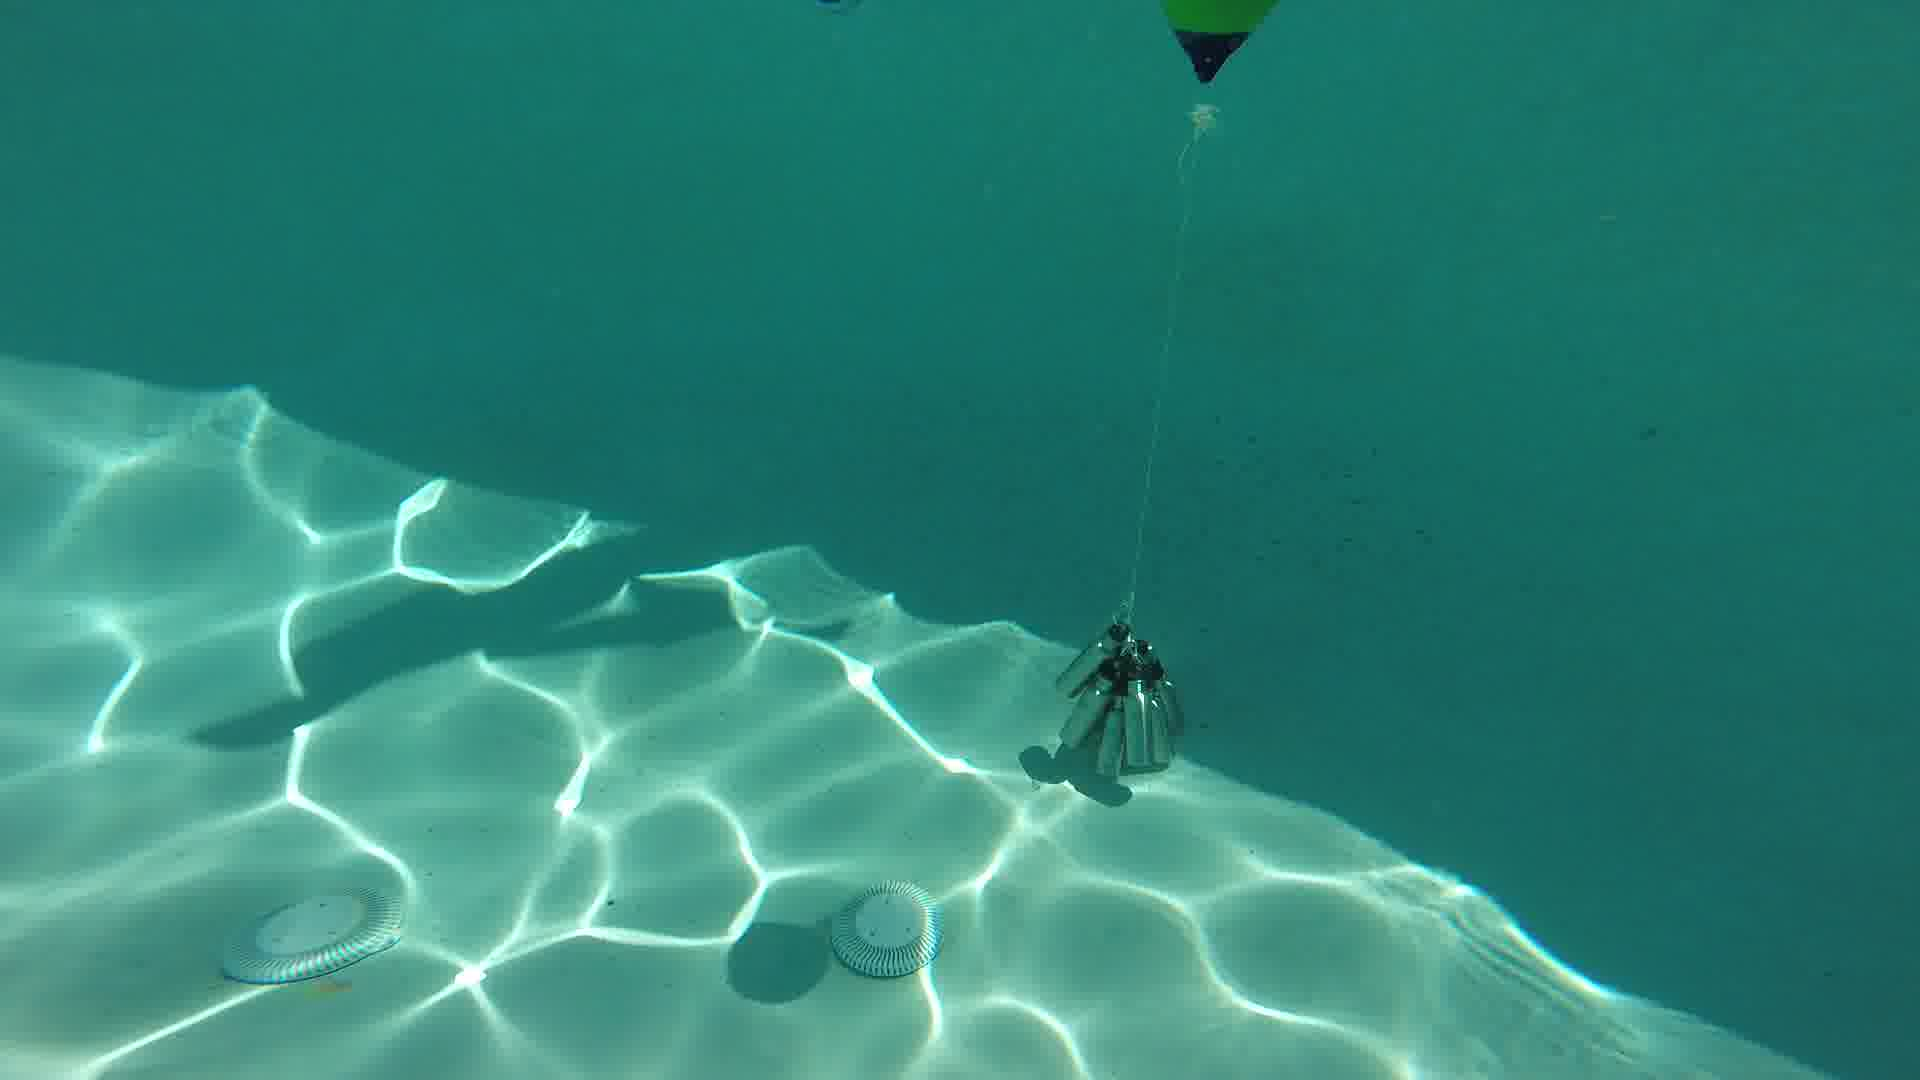yellow_buoy: (1159, 3, 1279, 138)
